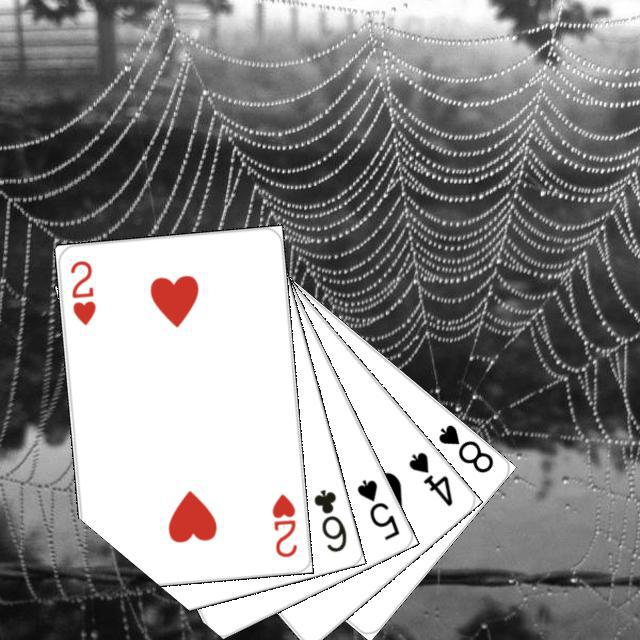2h: (65, 255, 97, 327), (267, 489, 299, 559)
4s: (403, 446, 455, 508)
5s: (352, 474, 401, 542)
6c: (308, 484, 349, 554)
8s: (433, 419, 496, 475)
